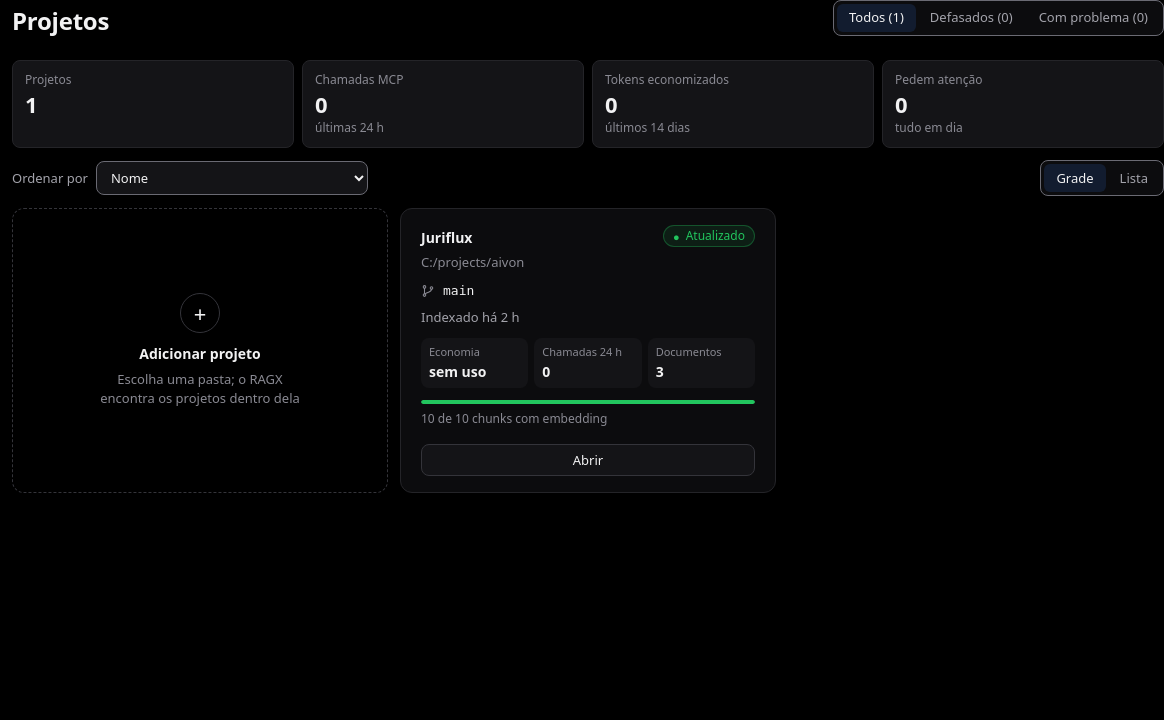
ProjectsPage › filtro sem nenhum projeto avisa
This screenshot has width=1164, height=720.
Click the radio button labelled "Com problema (0)" at (1093, 18), box [1027,4,1160,32]
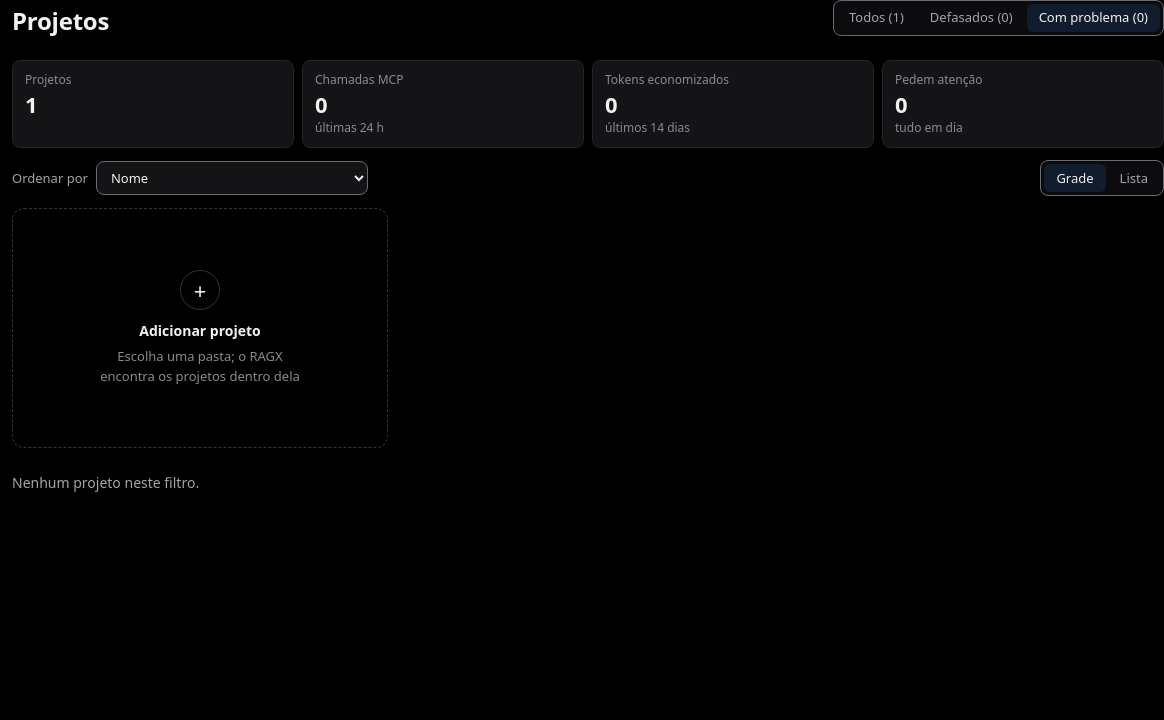
Expected: the text "Nenhum projeto neste filtro." is shown, [12,473,199,492]
